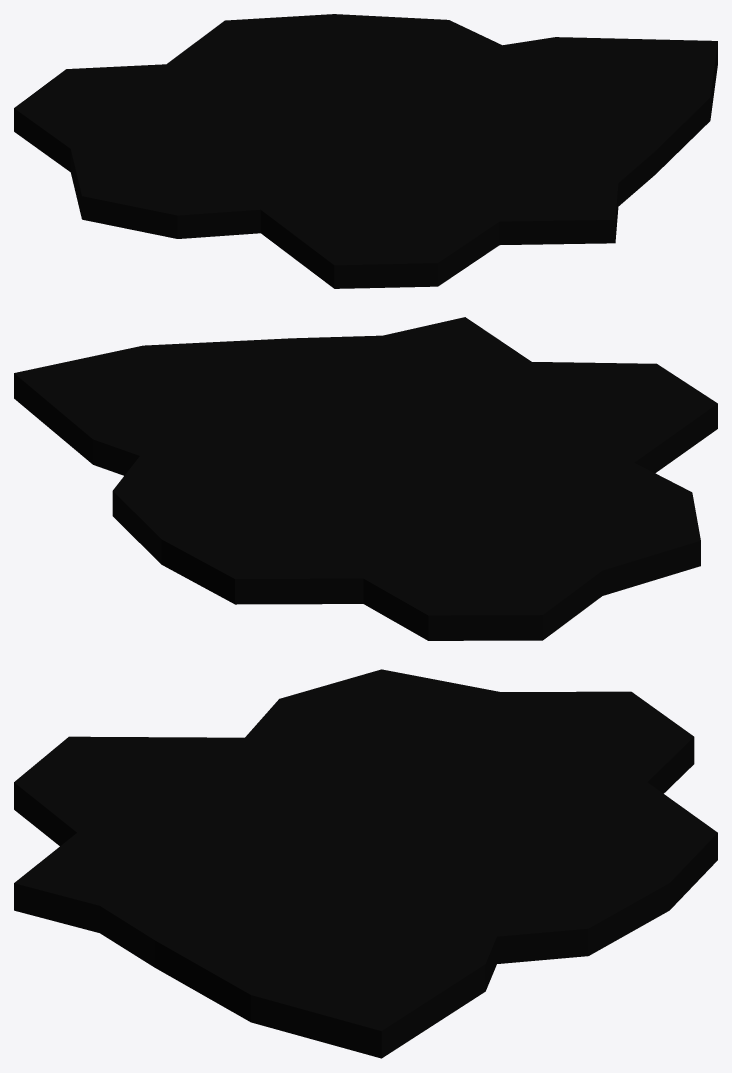
The model's file is Aceite.fbx.
3 renders of one model, top to bottom at view 1: azimuth 30°, elevation 25°; view 2: azimuth 150°, elevation 25°; view 3: azimuth 270°, elevation 25°, orthographic. The views are drawn at different scales.
Parts seen in each view (by area): view 1: Cylinder; view 2: Cylinder; view 3: Cylinder.
Part boxes in pixels (x1,y1,x2,y2): Cylinder: (14,14,717,288); Cylinder: (14,317,717,640); Cylinder: (14,669,717,1058).
Size of the model in its own units: 222 by 7.82 by 182.
